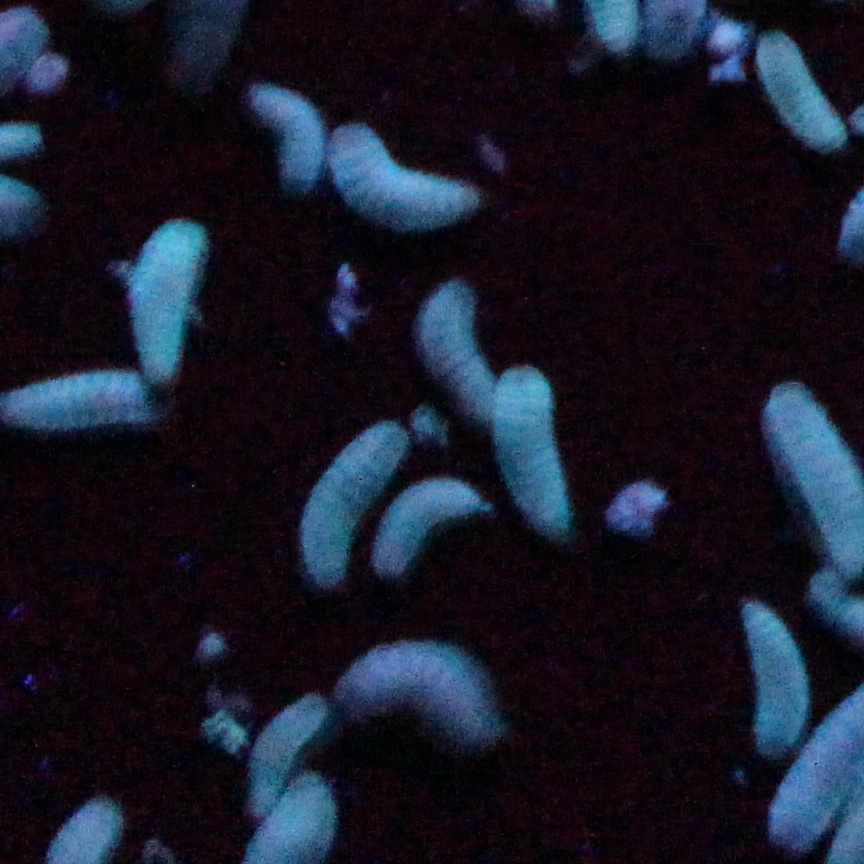larve: (322, 636, 517, 767), (293, 415, 407, 582), (327, 122, 489, 235), (115, 209, 206, 384), (487, 367, 582, 533), (411, 282, 504, 424), (753, 33, 848, 158), (371, 478, 482, 580), (240, 78, 335, 195), (242, 684, 326, 816), (735, 600, 806, 755)
